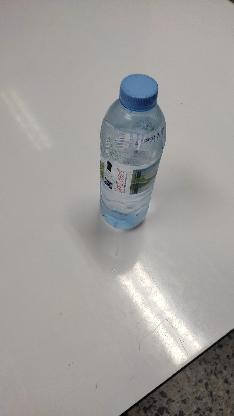Plastic Bottle: (96, 71, 168, 236)
